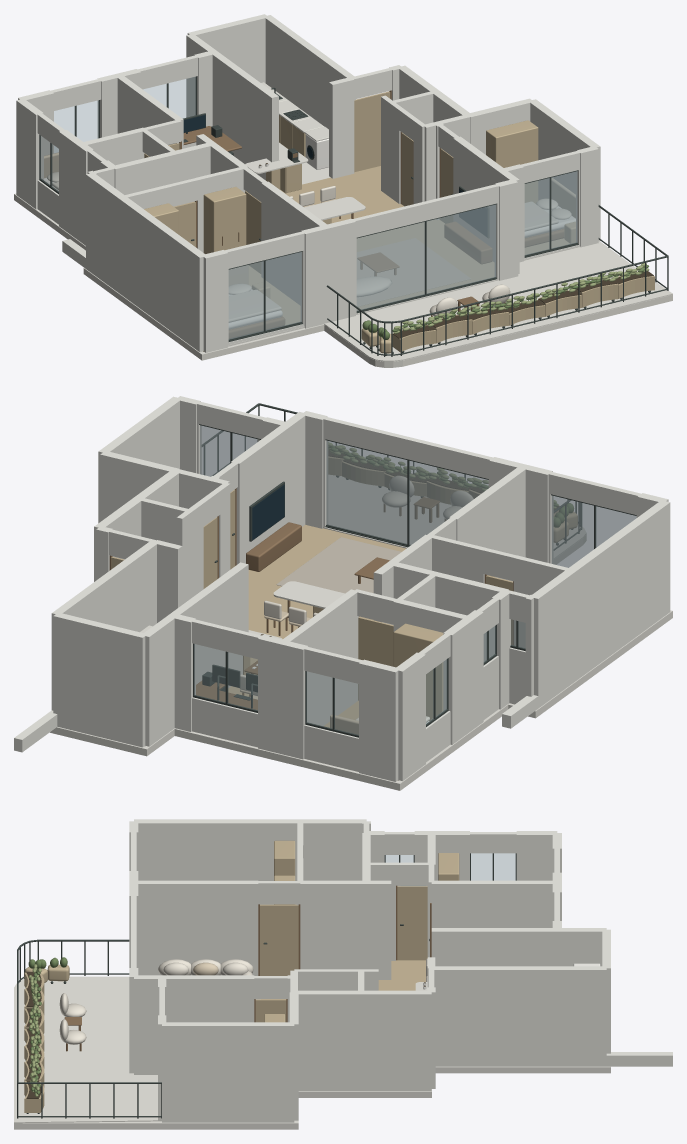
The model's file is home-21101.glb.
The picture shows the model from 3 angles, top to bottom: view 1: azimuth 30°, elevation 25°; view 2: azimuth 150°, elevation 25°; view 3: azimuth 270°, elevation 25°; orthographic projection. The views are drawn at different scales.
Parts seen in each view (by area): view 1: Wall_MasterWest, LivingTerrace_glass, Floor_TerraceFloor, Wall_BearingKitchenStudy, Floor_Living, MasterSouth_glass, Wall_MasterSouthEast, Wall_KitchenEast, Foundation, GuestSESouth_glass, LivingRug, Wall_MasterBedroomEast (+63 smaller); view 2: Wall_MasterWest, LivingTerrace_glass, Wall_KitchenNorth, Wall_BearingKitchenStudy, Wall_GuestSEWest, Wall_NorthMiddlePier, Foundation, Wall_KitchenEast, Floor_TerraceFloor, Wall_NorthBedroomPartition, Wall_GuestNWNorthWest, Wall_MasterBedroomEast (+53 smaller); view 3: Wall_KitchenEast, Floor_TerraceFloor, Wall_FoyerEast, Wall_GuestSEEast, Wall_MasterWest, Wall_MasterBedroomEast, Wall_MasterBathEast, Wall_GuestSEWest, Wall_BearingKitchenStudy, Wall_NorthBedroomPartition, Foundation, Door_MasterBedroom_East (+25 smaller).
Boxes of the visible parts, x1,y1,x2,y2 form: Wall_MasterWest: [86, 173, 205, 351]; LivingTerrace_glass: [356, 204, 495, 310]; Floor_TerraceFloor: [324, 243, 672, 361]; Wall_BearingKitchenStudy: [186, 34, 278, 180]; Floor_Living: [280, 166, 494, 310]; MasterSouth_glass: [228, 252, 301, 339]; Wall_MasterSouthEast: [301, 218, 355, 328]; Wall_KitchenEast: [263, 15, 355, 129]; Foundation: [14, 193, 672, 367]; GuestSESouth_glass: [524, 171, 577, 255]; LivingRug: [357, 238, 470, 306]; Wall_MasterBedroomEast: [261, 181, 326, 304]; Wall_MasterWest: [532, 500, 670, 708]; LivingTerrace_glass: [326, 440, 488, 544]; Wall_KitchenNorth: [53, 613, 146, 747]; Wall_BearingKitchenStudy: [142, 562, 248, 746]; Wall_GuestSEWest: [231, 411, 306, 564]; Wall_NorthMiddlePier: [258, 635, 308, 759]; Foundation: [50, 534, 672, 790]; Wall_KitchenEast: [51, 540, 156, 710]; Floor_TerraceFloor: [328, 475, 586, 558]; Wall_NorthBedroomPartition: [280, 589, 358, 725]; Wall_GuestNWNorthWest: [359, 659, 400, 781]; Wall_MasterBedroomEast: [449, 466, 527, 581]; Wall_KitchenEast: [431, 966, 606, 1066]; Floor_TerraceFloor: [14, 976, 161, 1123]; Wall_FoyerEast: [294, 990, 431, 1090]; Wall_GuestSEEast: [162, 1022, 294, 1122]; Wall_MasterWest: [134, 819, 366, 904]; Wall_MasterBedroomEast: [134, 880, 258, 975]; Wall_MasterBathEast: [300, 880, 391, 979]; Wall_GuestSEWest: [134, 975, 254, 1074]; Wall_BearingKitchenStudy: [431, 928, 606, 966]; Wall_NorthBedroomPartition: [431, 880, 557, 927]; Foundation: [14, 1066, 610, 1129]; Door_MasterBedroom_East: [260, 904, 298, 975].
Bounding box in the file's own units: 12.85 × 3 × 17.31.
